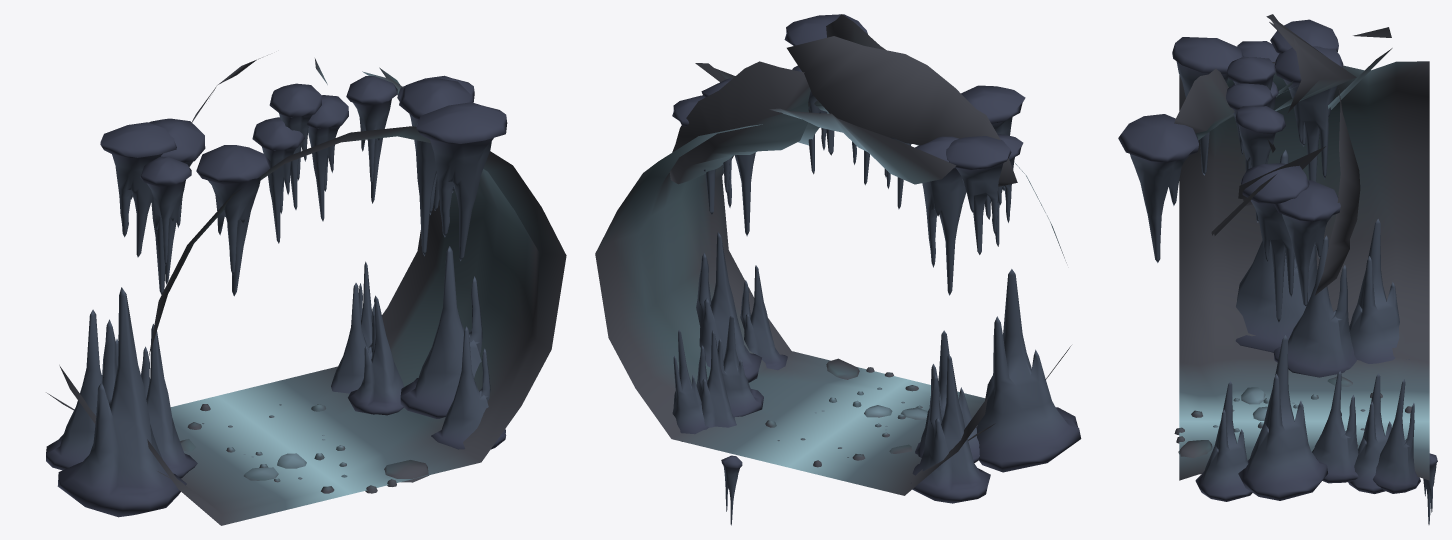
Rendered from Arctic_Tunnels_Straight_Short_A.glb.
3 views of the same model, side by side, from view 1: azimuth 30°, elevation 25°; view 2: azimuth 150°, elevation 25°; view 3: azimuth 270°, elevation 25° (orthographic). The views are drawn at different scales.
Visible parts, largest first — view 1: Arctic_Tunnels_Straight_Short_A, Arctic_Tunnels_Icicle_Shadow_A02 (13), Arctic_Tunnels_Icicle_Shadow_A02 (4), Arctic_Tunnels_Icicle_Shadow_A02 (9), Arctic_Tunnels_Icicle_Shadow_A02 (2), Arctic_Tunnels_Icicle_Shadow_A02 (6), Arctic_Tunnels_Icicle_Shadow_A02 (17), Arctic_Tunnels_Icicle_Shadow_A02 (8), Arctic_Tunnels_Icicle_Shadow_A02 (10), Arctic_Tunnels_Icicle_Shadow_A02 (5), Arctic_Tunnels_Icicle_Shadow_A02 (12), Arctic_Tunnels_Icicle_Shadow_A02 (+7 smaller); view 2: Arctic_Tunnels_Straight_Short_A, Arctic_Tunnels_Icicle_Shadow_A02 (13), Arctic_Tunnels_Icicle_Shadow_A02 (8), Arctic_Tunnels_Icicle_Shadow_A02 (9), Arctic_Tunnels_Icicle_Shadow_A02 (6), Arctic_Tunnels_Icicle_Shadow_A02 (18), Arctic_Tunnels_Icicle_Shadow_A02 (12), Arctic_Tunnels_Icicle_Shadow_A02 (11), Arctic_Tunnels_Icicle_Shadow_A02 (10), Arctic_Tunnels_Icicle_Shadow_A02 (2), Arctic_Tunnels_Icicle_Shadow_A02 (3), Arctic_Tunnels_Icicle_Shadow_A02 (5) (+5 smaller); view 3: Arctic_Tunnels_Straight_Short_A, Arctic_Tunnels_Icicle_Shadow_A02 (9), Arctic_Tunnels_Icicle_Shadow_A02 (4), Arctic_Tunnels_Icicle_Shadow_A02 (5), Arctic_Tunnels_Icicle_Shadow_A02 (13), Arctic_Tunnels_Icicle_Shadow_A02 (17), Arctic_Tunnels_Icicle_Shadow_A02 (8), Arctic_Tunnels_Icicle_Shadow_A02 (7), Arctic_Tunnels_Icicle_Shadow_A02 (18), Arctic_Tunnels_Icicle_Shadow_A02 (12), Arctic_Tunnels_Icicle_Shadow_A02 (10), Arctic_Tunnels_Icicle_Shadow_A02 (2) (+8 smaller).
Boxes of the visible parts, <box> form: Arctic_Tunnels_Straight_Short_A: <box>46,55,566,525</box>; Arctic_Tunnels_Icicle_Shadow_A02 (13): <box>57,287,186,517</box>; Arctic_Tunnels_Icicle_Shadow_A02 (4): <box>416,102,507,260</box>; Arctic_Tunnels_Icicle_Shadow_A02 (9): <box>400,246,482,418</box>; Arctic_Tunnels_Icicle_Shadow_A02 (2): <box>196,145,270,296</box>; Arctic_Tunnels_Icicle_Shadow_A02 (6): <box>100,122,176,257</box>; Arctic_Tunnels_Icicle_Shadow_A02 (17): <box>399,78,471,256</box>; Arctic_Tunnels_Icicle_Shadow_A02 (8): <box>46,309,118,470</box>; Arctic_Tunnels_Icicle_Shadow_A02 (10): <box>348,295,403,415</box>; Arctic_Tunnels_Icicle_Shadow_A02 (5): <box>141,324,197,478</box>; Arctic_Tunnels_Icicle_Shadow_A02 (12): <box>431,326,506,449</box>; Arctic_Tunnels_Icicle_Shadow_A02: <box>140,156,191,284</box>; Arctic_Tunnels_Straight_Short_A: <box>595,14,1071,495</box>; Arctic_Tunnels_Icicle_Shadow_A02 (13): <box>976,269,1081,472</box>; Arctic_Tunnels_Icicle_Shadow_A02 (8): <box>911,354,990,503</box>; Arctic_Tunnels_Icicle_Shadow_A02 (9): <box>696,232,761,382</box>; Arctic_Tunnels_Icicle_Shadow_A02 (6): <box>946,136,1011,254</box>; Arctic_Tunnels_Icicle_Shadow_A02 (18): <box>915,136,966,295</box>; Arctic_Tunnels_Icicle_Shadow_A02 (12): <box>740,265,787,370</box>; Arctic_Tunnels_Icicle_Shadow_A02 (11): <box>696,330,736,427</box>; Arctic_Tunnels_Icicle_Shadow_A02 (10): <box>717,315,763,417</box>; Arctic_Tunnels_Icicle_Shadow_A02 (2): <box>961,85,1025,219</box>; Arctic_Tunnels_Icicle_Shadow_A02 (3): <box>672,329,708,441</box>; Arctic_Tunnels_Icicle_Shadow_A02 (5): <box>915,330,979,462</box>; Arctic_Tunnels_Straight_Short_A: <box>1174,14,1429,480</box>; Arctic_Tunnels_Icicle_Shadow_A02 (9): <box>1238,335,1328,500</box>; Arctic_Tunnels_Icicle_Shadow_A02 (4): <box>1118,114,1198,262</box>; Arctic_Tunnels_Icicle_Shadow_A02 (5): <box>1274,235,1356,377</box>; Arctic_Tunnels_Icicle_Shadow_A02 (13): <box>1235,150,1317,352</box>; Arctic_Tunnels_Icicle_Shadow_A02 (17): <box>1240,163,1309,322</box>; Arctic_Tunnels_Icicle_Shadow_A02 (8): <box>1349,219,1409,363</box>; Arctic_Tunnels_Icicle_Shadow_A02 (7): <box>1273,180,1340,306</box>; Arctic_Tunnels_Icicle_Shadow_A02 (18): <box>1274,46,1343,181</box>; Arctic_Tunnels_Icicle_Shadow_A02 (12): <box>1195,381,1252,501</box>; Arctic_Tunnels_Icicle_Shadow_A02 (10): <box>1312,371,1358,483</box>; Arctic_Tunnels_Icicle_Shadow_A02 (2): <box>1172,37,1243,175</box>.
Bounding box in the file's own units: 9.6 × 10.36 × 6.39.
